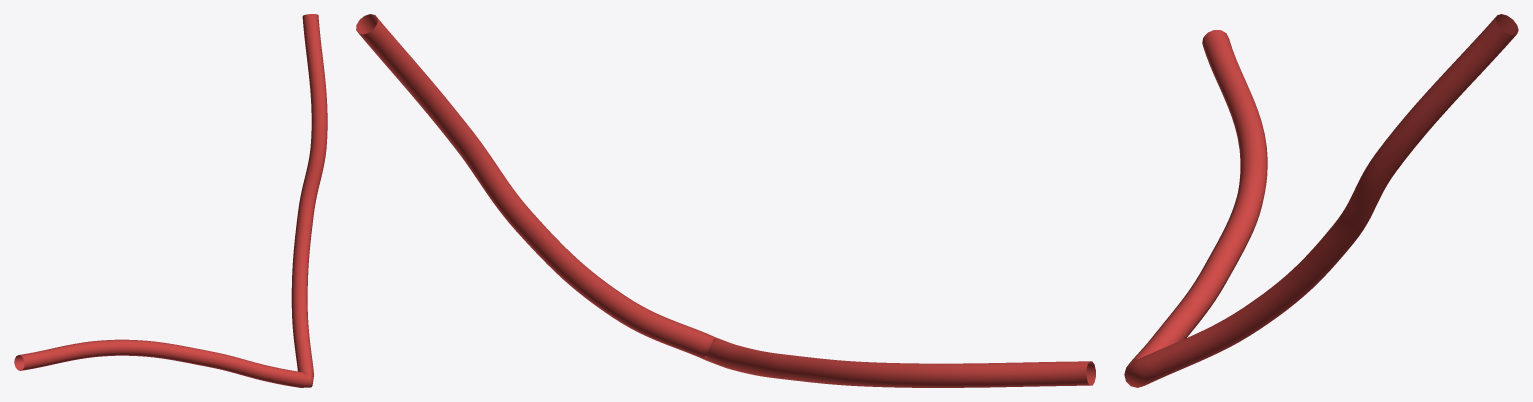
3 views of the same model, side by side, from view 1: azimuth 30°, elevation 25°; view 2: azimuth 150°, elevation 25°; view 3: azimuth 270°, elevation 25° (orthographic). The views are drawn at different scales.
Visible parts, largest first — view 1: 左侧足底弓; view 2: 左侧足底弓; view 3: 左侧足底弓.
Boxes of the visible parts, left/top/right/bottom form: 左侧足底弓: left=14, top=14, right=327, bottom=387; 左侧足底弓: left=356, top=14, right=1095, bottom=387; 左侧足底弓: left=1124, top=14, right=1518, bottom=387.
Bounding box in the file's own units: 0.0653 × 0.0439 × 0.0339.
